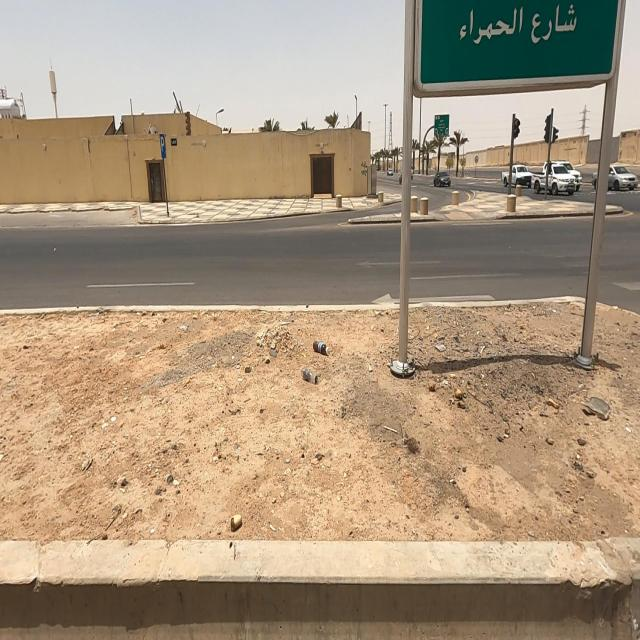Graffiti: (361, 162, 367, 180)
